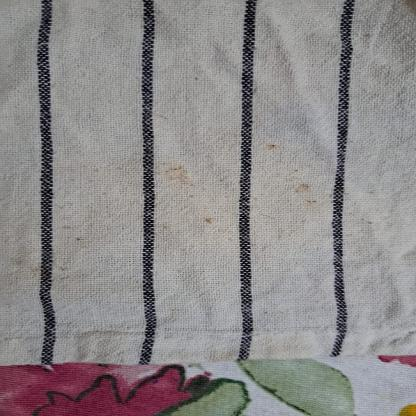spot: (156, 161, 235, 236), (260, 172, 304, 233), (163, 165, 196, 185), (13, 260, 43, 273), (198, 214, 223, 229), (70, 230, 90, 243), (294, 180, 312, 194), (264, 140, 282, 152), (303, 196, 320, 208)
